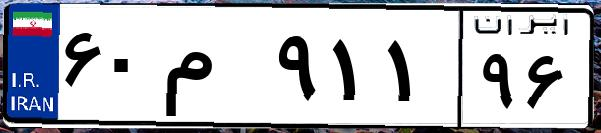0: (110, 28, 158, 98)
1: (385, 28, 445, 110), (330, 28, 385, 110)
6: (57, 26, 110, 100), (525, 38, 570, 115)
9: (270, 28, 330, 110), (475, 38, 525, 113)
م: (158, 20, 270, 120)
